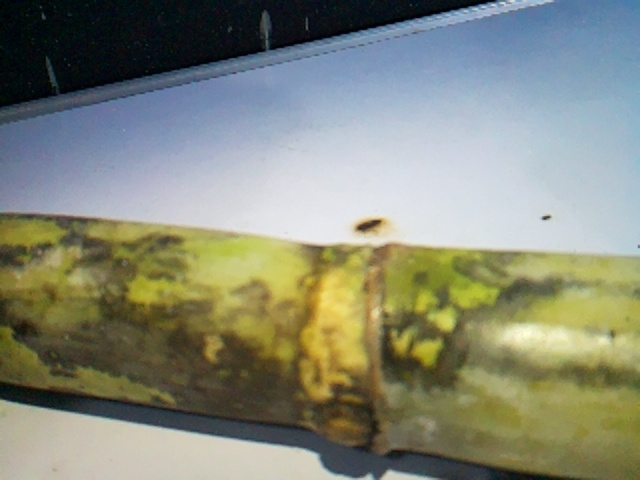Good Sugarcane: (0, 213, 633, 480)
Node: (276, 233, 421, 454)
